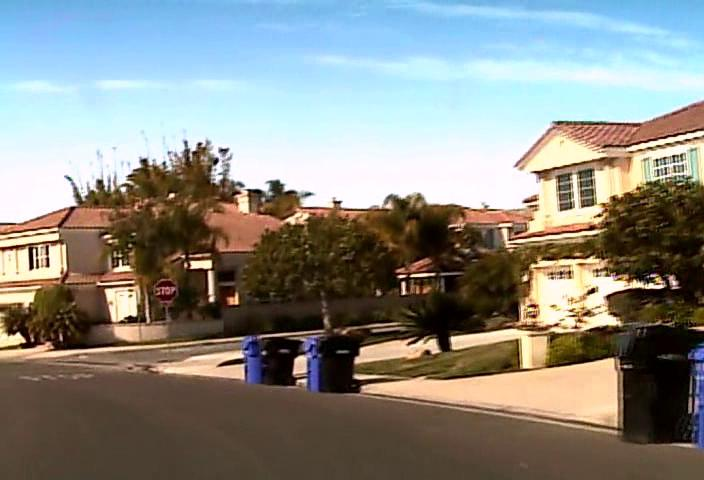stop: (152, 278, 178, 303)
